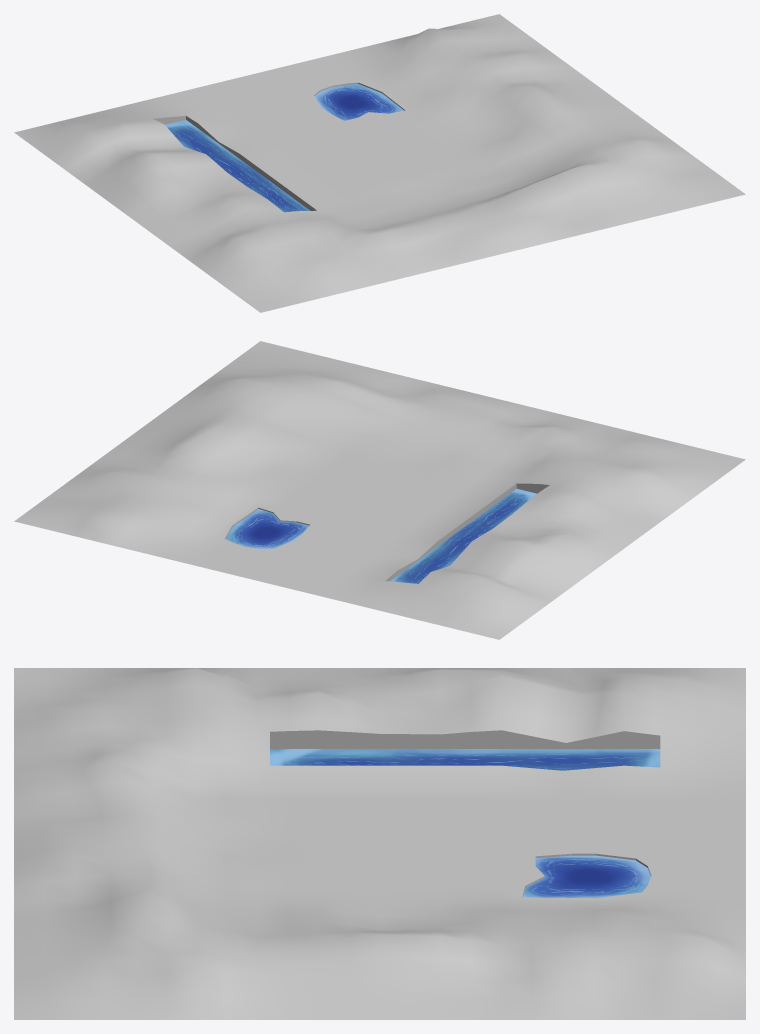
The model's file is Map.fbx.
3 renders of one model, top to bottom at view 1: azimuth 30°, elevation 25°; view 2: azimuth 150°, elevation 25°; view 3: azimuth 270°, elevation 25°, orthographic. The views are drawn at different scales.
Parts seen in each view (by area): view 1: M_Water; view 2: M_Water; view 3: M_Water.
Part boxes in pixels (box(x1,y1,x2,y2)): M_Water: box(14, 14, 745, 312); M_Water: box(14, 341, 745, 639); M_Water: box(14, 668, 745, 1019).
Bounding box in the file's own units: 12509 × 604 × 11001.
